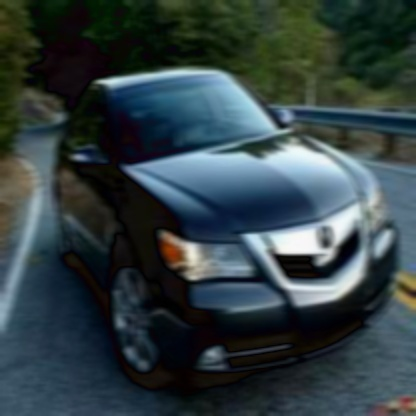Vehicle: (51, 62, 405, 391)
